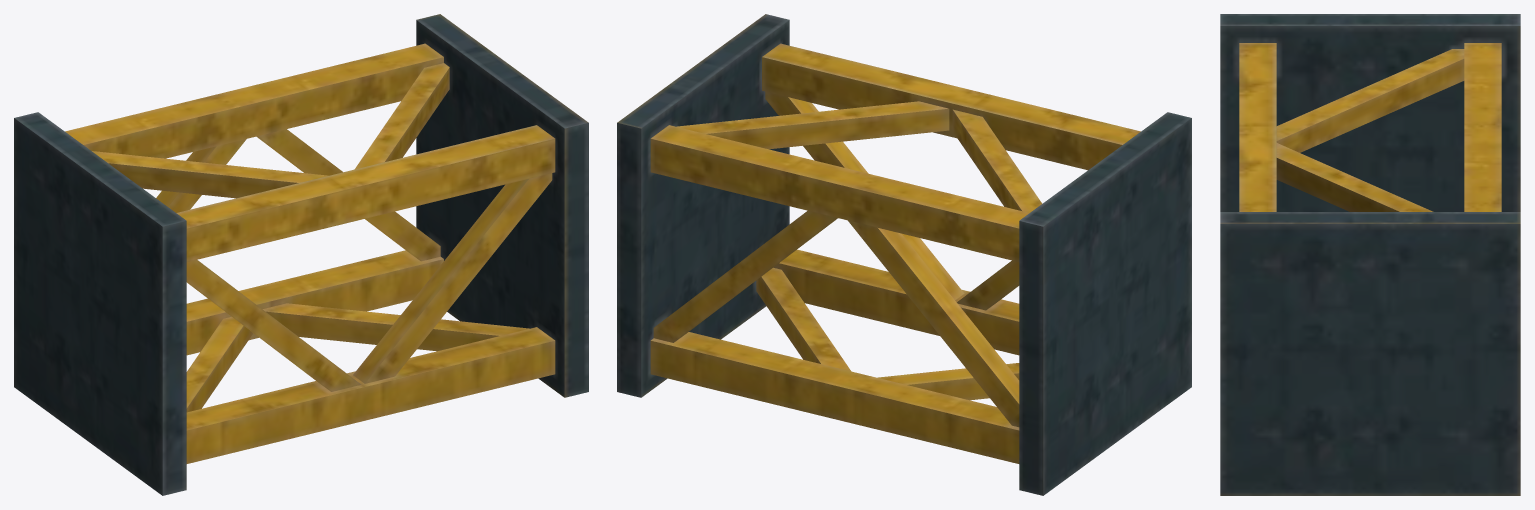
File: structural_frame.glb
The picture shows the model from 3 angles, left to right: view 1: azimuth 30°, elevation 25°; view 2: azimuth 150°, elevation 25°; view 3: azimuth 270°, elevation 25°; orthographic projection.
Parts seen in each view (by area): view 1: te_res_structural_frame; view 2: te_res_structural_frame; view 3: te_res_structural_frame.
Part boxes in pixels (bbox=[...]): te_res_structural_frame: bbox=[14, 14, 588, 495]; te_res_structural_frame: bbox=[617, 14, 1191, 495]; te_res_structural_frame: bbox=[1220, 14, 1520, 495].
Bounding box in the file's own units: 0.53 × 0.32 × 0.32.
1 material, 1 textured.
